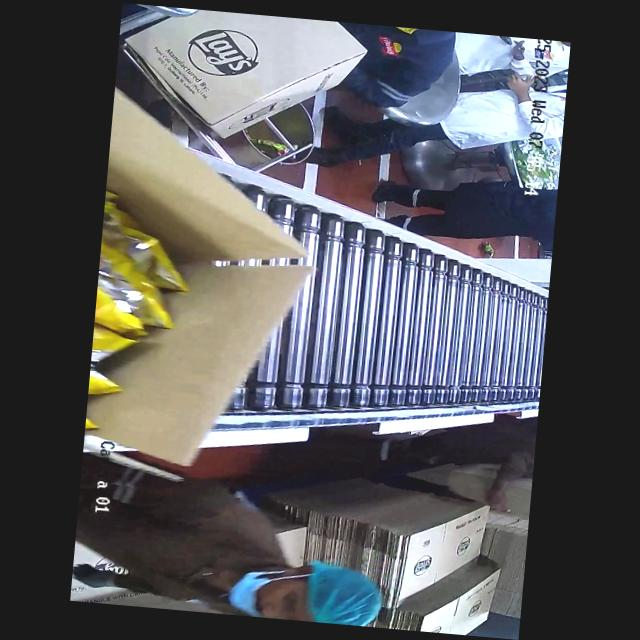salted: (92, 214, 202, 356)
